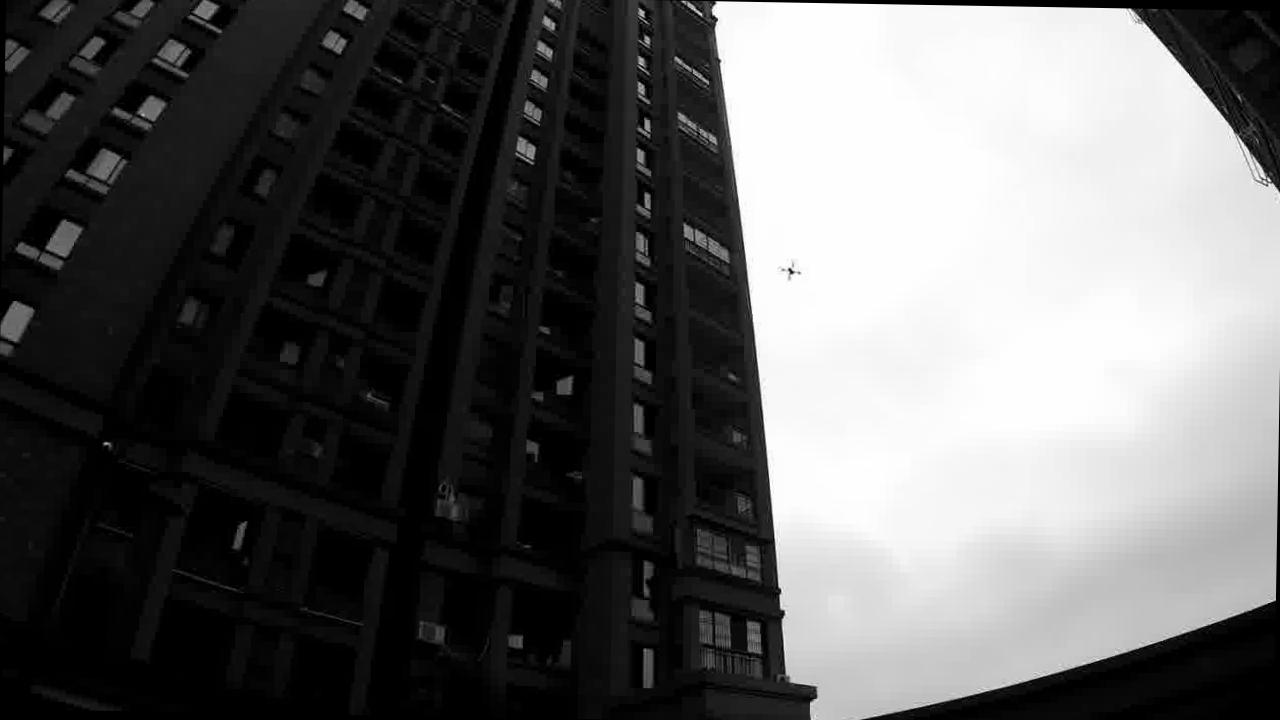drone: (761, 233, 804, 279)
